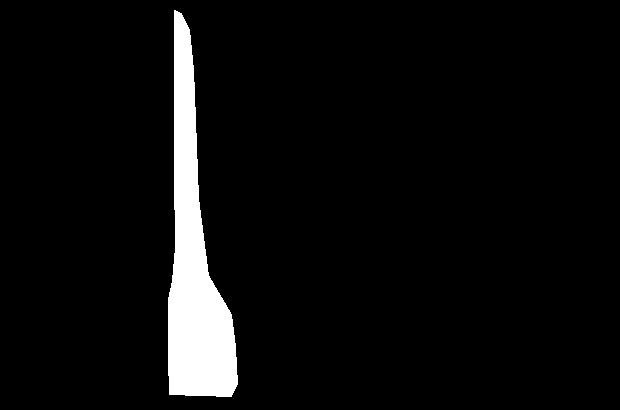type5: (164, 7, 242, 398)
